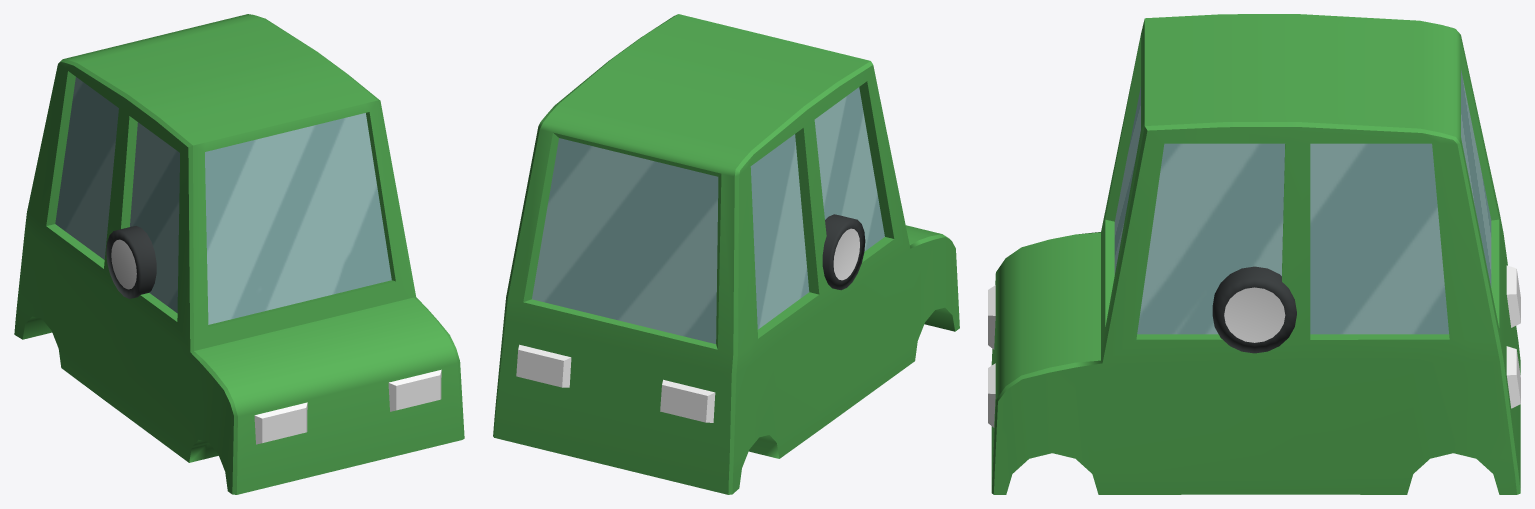
The model's file is car_3_G.fbx.
3 renders of one model, left to right at view 1: azimuth 30°, elevation 25°; view 2: azimuth 150°, elevation 25°; view 3: azimuth 270°, elevation 25°, orthographic. The views are drawn at different scales.
Parts seen in each view (by area): view 1: car_3_chasis_G, car_3_back_wheel_G, car_3_right_wheel_G; view 2: car_3_chasis_G, car_3_back_wheel_G, car_3_right_wheel_G; view 3: car_3_chasis_G, car_3_left_wheel_G.
Boxes of the visible parts, box(x1,y1,x2,y2) form: car_3_chasis_G: box(14, 14, 464, 494); car_3_back_wheel_G: box(106, 226, 156, 298); car_3_right_wheel_G: box(116, 226, 156, 296); car_3_chasis_G: box(493, 14, 959, 494); car_3_back_wheel_G: box(822, 214, 865, 290); car_3_right_wheel_G: box(822, 215, 849, 288); car_3_chasis_G: box(988, 14, 1520, 494); car_3_left_wheel_G: box(1212, 266, 1296, 353).
Size of the model in its own units: 92.39 by 115 by 154.
